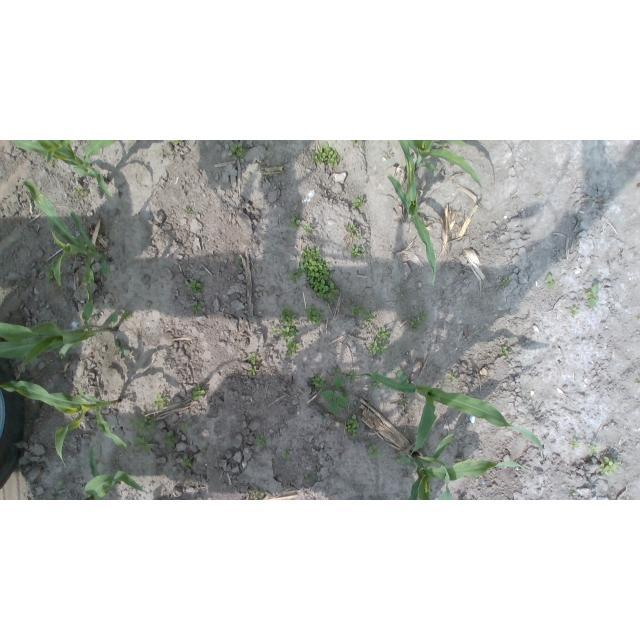Maize: (354, 369, 547, 463), (1, 284, 118, 384), (0, 381, 128, 468), (22, 179, 112, 285), (397, 433, 534, 500), (387, 140, 438, 286), (12, 140, 118, 200), (408, 140, 484, 190), (81, 446, 148, 500), (419, 456, 452, 501)
Weeds: (299, 246, 340, 306), (321, 377, 349, 414), (312, 141, 341, 167), (279, 307, 300, 340), (128, 412, 156, 436), (368, 327, 391, 355), (599, 456, 621, 476), (410, 308, 429, 330), (304, 305, 324, 325), (584, 285, 600, 309), (134, 435, 155, 453), (346, 415, 361, 438), (114, 339, 131, 359), (343, 223, 361, 240), (229, 141, 247, 158), (285, 338, 299, 358), (312, 373, 327, 391), (366, 443, 382, 459), (152, 394, 168, 410), (189, 278, 204, 295), (350, 245, 366, 260), (161, 431, 176, 447), (288, 214, 301, 230), (191, 386, 205, 400), (363, 310, 376, 325), (288, 269, 301, 284), (44, 262, 54, 281), (255, 435, 267, 450), (587, 444, 600, 457), (352, 196, 365, 209), (349, 304, 363, 316), (247, 352, 261, 364), (190, 302, 203, 314), (76, 186, 88, 199), (545, 275, 555, 290), (303, 223, 314, 236), (368, 380, 382, 390), (567, 307, 579, 318), (182, 456, 193, 468), (569, 439, 580, 450), (347, 370, 358, 381), (270, 324, 280, 336), (393, 453, 403, 464), (251, 492, 263, 501), (121, 311, 131, 321), (283, 449, 292, 459), (499, 347, 509, 356), (501, 278, 511, 287), (202, 444, 210, 454), (448, 374, 458, 382), (248, 365, 256, 375), (180, 422, 190, 430), (58, 478, 66, 488), (401, 398, 410, 406), (332, 367, 340, 376), (236, 256, 243, 266), (51, 157, 58, 167), (304, 474, 312, 482), (185, 207, 193, 214), (635, 378, 640, 387), (172, 140, 182, 144), (352, 140, 362, 144), (323, 414, 330, 419), (279, 419, 284, 424), (387, 154, 392, 159), (401, 289, 406, 294), (571, 493, 576, 498), (367, 402, 373, 406), (276, 162, 281, 166)
